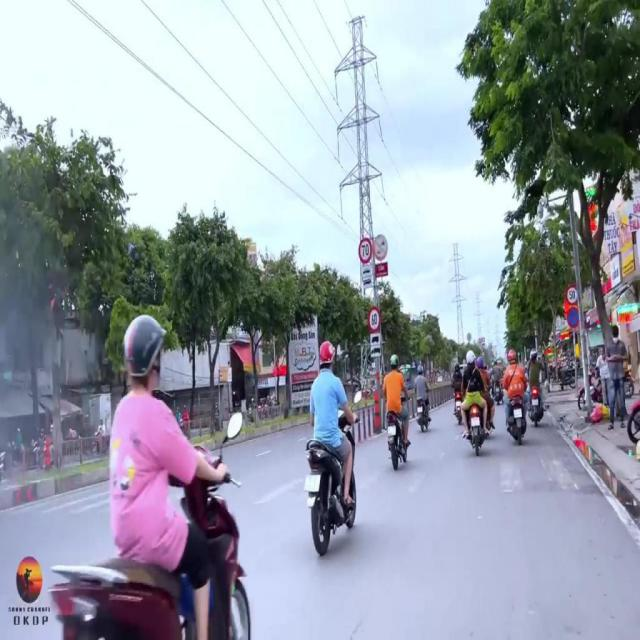cam_dung_xe_va_do_xe: (567, 307, 579, 329)
cam_xe_2_banh_va_xe_3_banh_co_dong_co: (374, 234, 387, 259)
khac: (359, 238, 372, 263), (362, 266, 372, 278), (370, 345, 380, 357), (370, 334, 380, 345), (363, 276, 372, 288)
toc_do_toi_da_50: (566, 284, 578, 306)
toc_do_toi_da_60: (368, 306, 380, 332)
